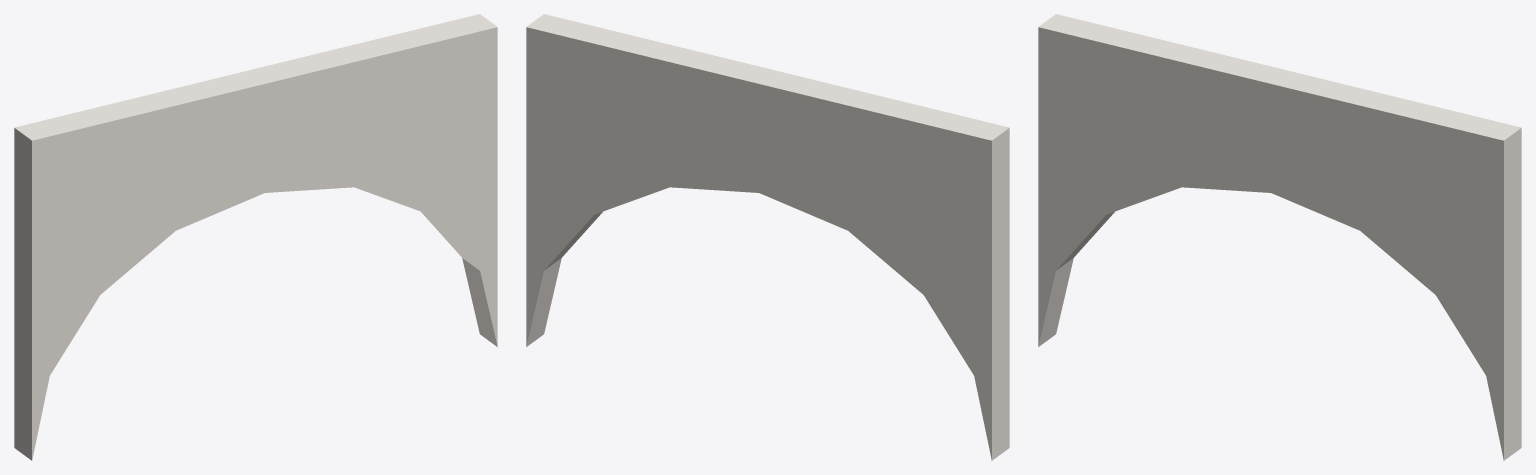
The model's file is portal_spandrel.glb.
The picture shows the model from 3 angles, left to right: view 1: azimuth 30°, elevation 25°; view 2: azimuth 150°, elevation 25°; view 3: azimuth 330°, elevation 25°; orthographic projection.
Parts seen in each view (by area): view 1: frutiger_aero_portal_spandrel; view 2: frutiger_aero_portal_spandrel; view 3: frutiger_aero_portal_spandrel.
Boxes of the visible parts, x1,y1,x2,y2 form: frutiger_aero_portal_spandrel: (14, 14, 497, 460); frutiger_aero_portal_spandrel: (526, 14, 1009, 460); frutiger_aero_portal_spandrel: (1038, 14, 1521, 460).
Size of the model in its own units: 3.6 by 2.37 by 0.24.
Materials: 1 (1 with a texture image).
